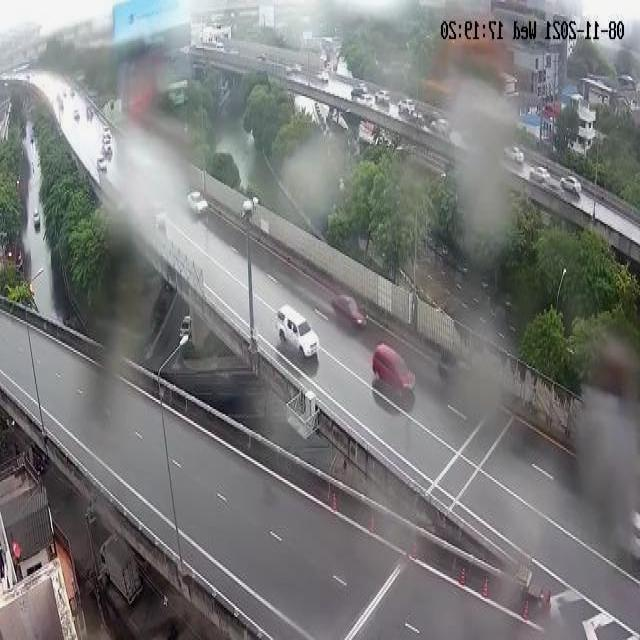Car: (366, 340, 420, 400), (274, 310, 322, 363), (325, 288, 375, 331), (183, 189, 214, 220), (529, 163, 555, 190), (564, 173, 584, 199), (506, 142, 528, 164), (96, 152, 111, 178), (32, 207, 46, 231)
Van: (94, 536, 152, 600)
